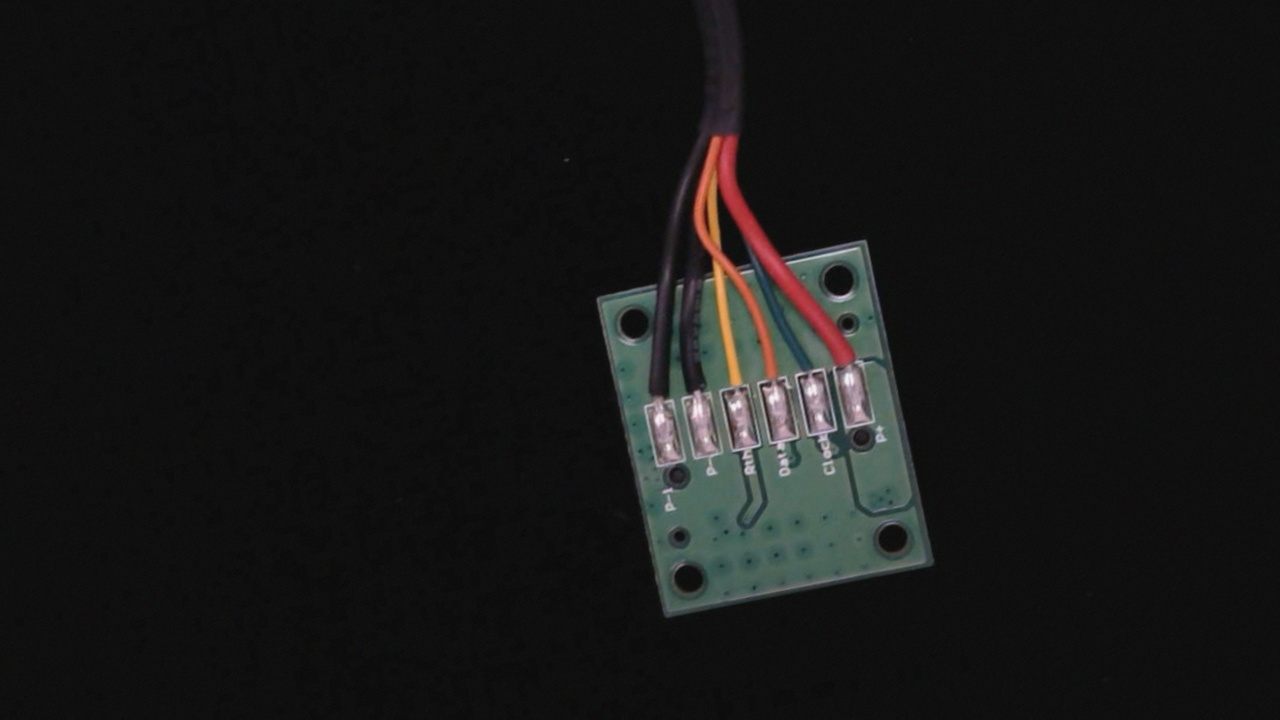Black: (670, 343, 716, 413)
Black1: (634, 359, 675, 420)
Green: (782, 331, 827, 393)
Orange: (747, 335, 791, 401)
Red: (821, 316, 866, 381)
Yellow: (710, 338, 754, 405)
